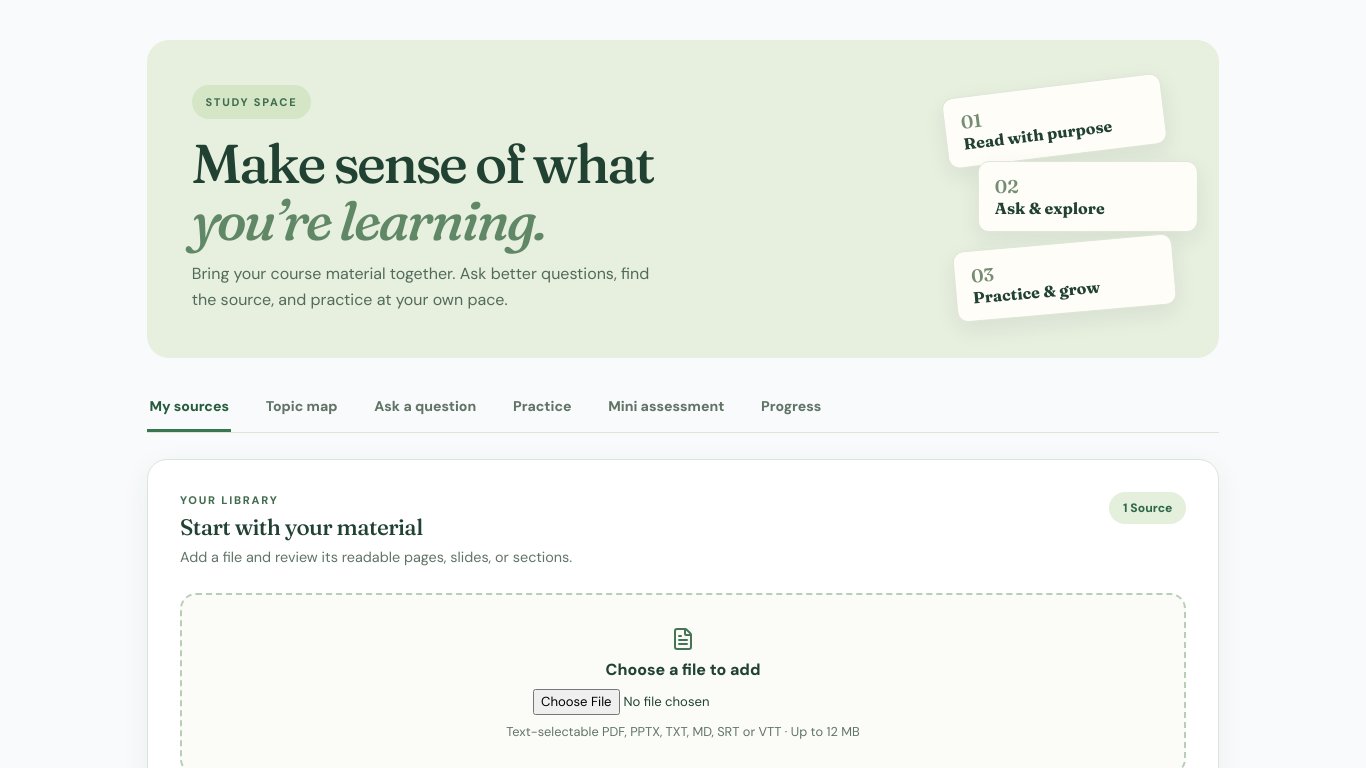
Test: Study Lab records two answers and adapts the next sourced question difficulty
Click the button "Practice": (542, 408) left=511, top=384, right=574, bottom=432
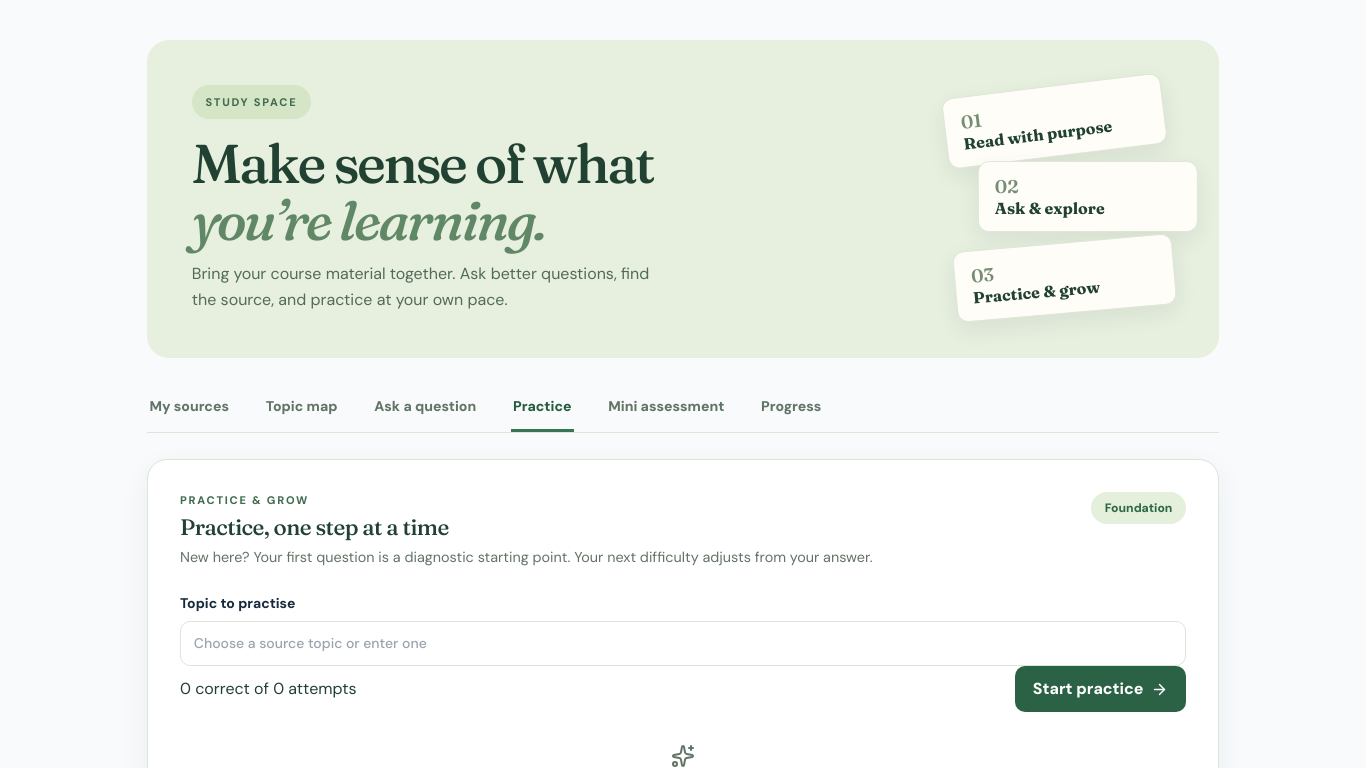
Click the button "Start practice": (1101, 689) left=1015, top=666, right=1186, bottom=712
(page scrolled)
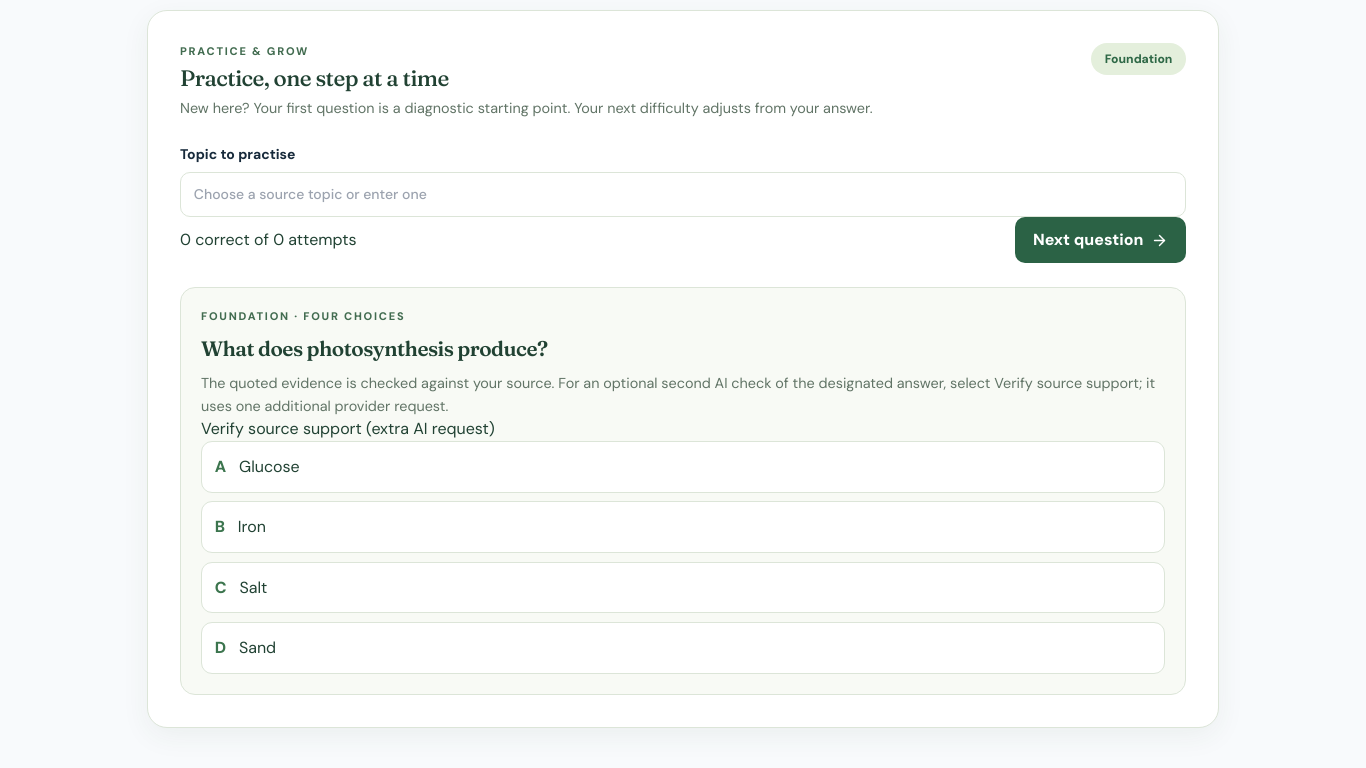
Expected: the heading "What does photosynthesis produce?" is shown, left=201, top=336, right=548, bottom=361
Click the button named "AGlucose": (269, 466) left=201, top=441, right=1165, bottom=493
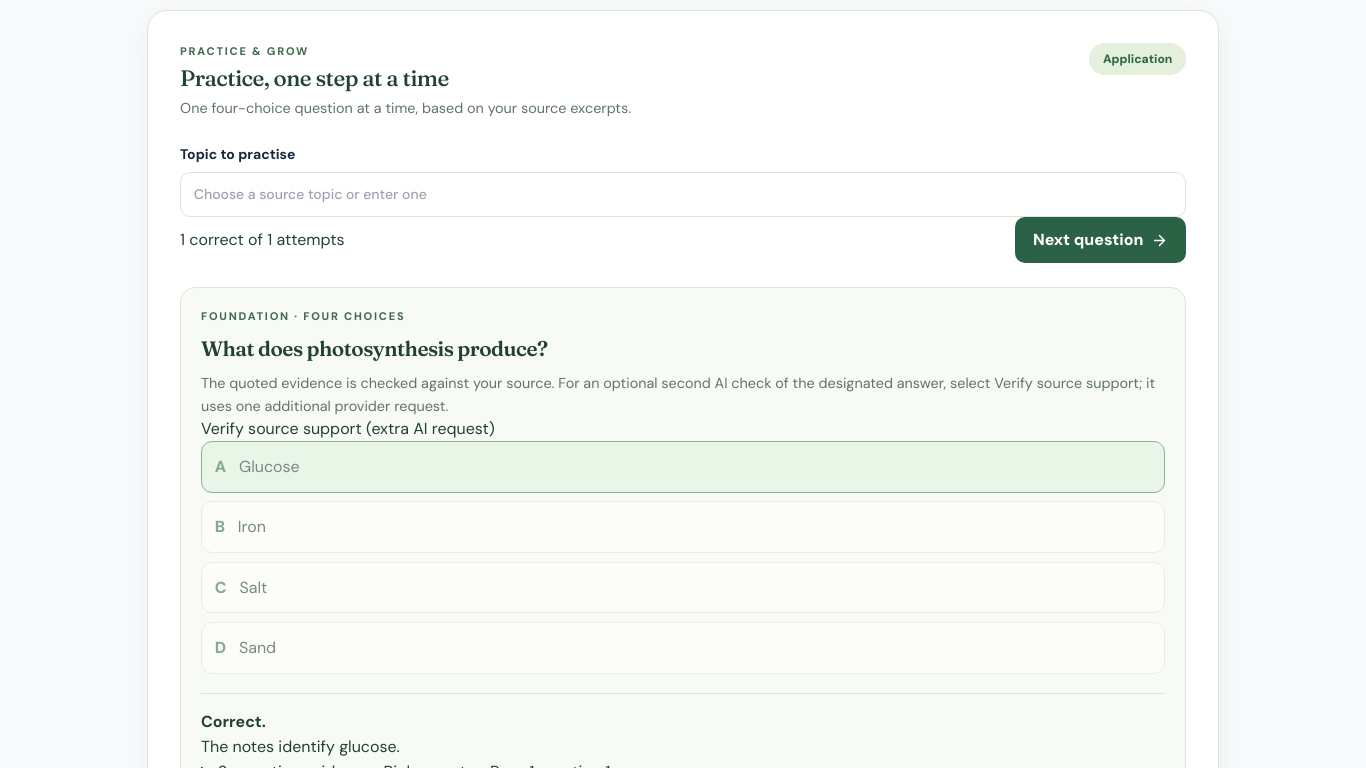
Click the button "Next question": (1101, 240) left=1015, top=217, right=1186, bottom=264
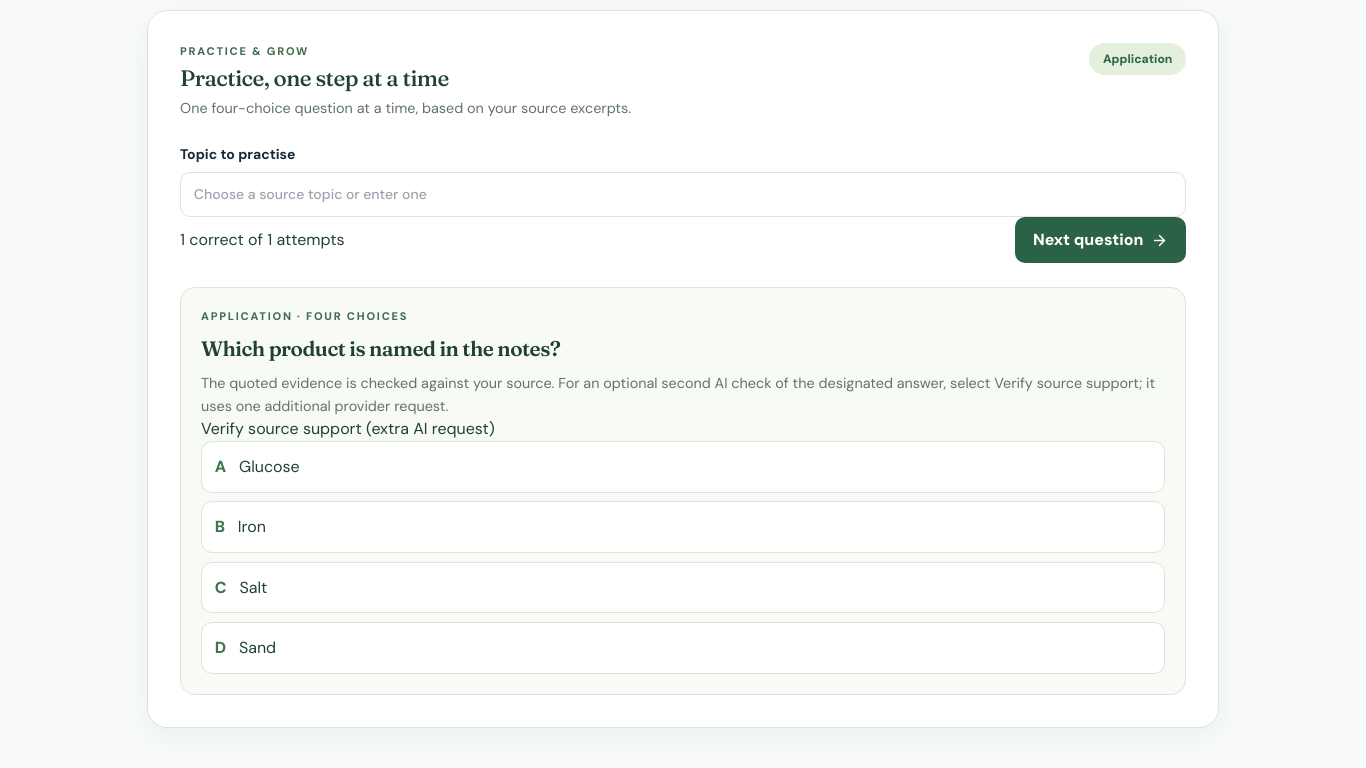
Expected: the text "application · FOUR CHOICES" is shown, left=201, top=310, right=408, bottom=324
Click the button named "BIron": (220, 527) left=201, top=502, right=1165, bottom=553
(page scrolled)
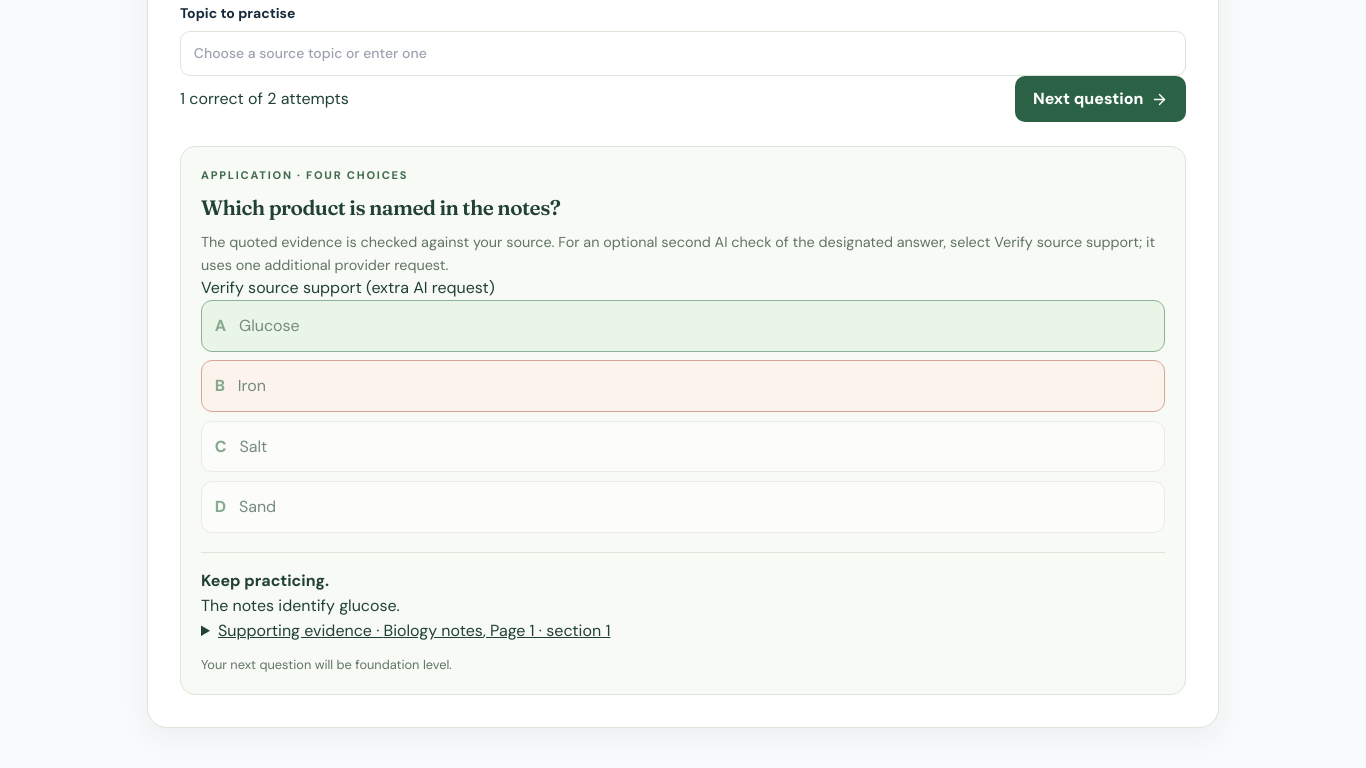
Expected: the text "Your next question will be foundation level." is shown, left=201, top=656, right=452, bottom=673
